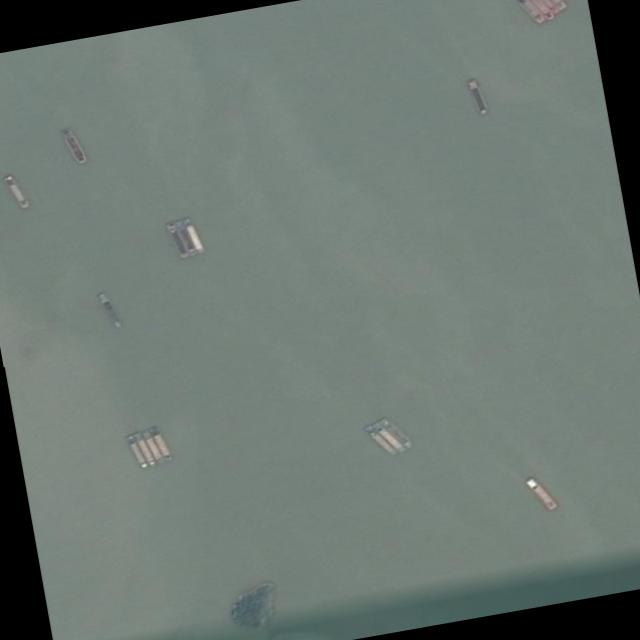ship: (370, 420, 406, 452), (524, 476, 559, 508), (362, 423, 398, 454), (379, 415, 414, 445), (95, 290, 122, 327), (59, 125, 85, 161), (3, 172, 29, 206), (166, 219, 190, 255), (174, 217, 197, 252), (148, 425, 172, 458), (182, 216, 205, 250), (132, 430, 155, 463), (124, 433, 147, 466), (468, 77, 487, 112), (140, 428, 162, 458), (516, 0, 545, 21), (530, 0, 555, 18), (542, 0, 561, 11)
